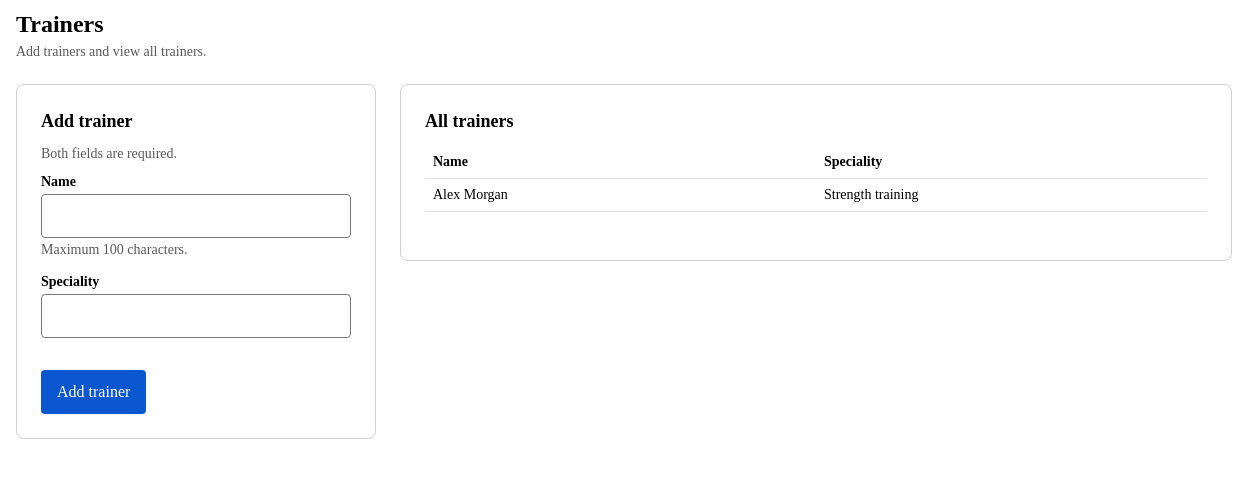
Test case: Trainers page (FIT-941 T2) › Trainers / Save Error (AC-014, AC-015, AC-016) › AC-014: keeps values and list, shows the save error and "Try again"
The image size is (1249, 488).
In the field labelled "Name": (196, 216) [41,194,351,238], type "Sofia García"
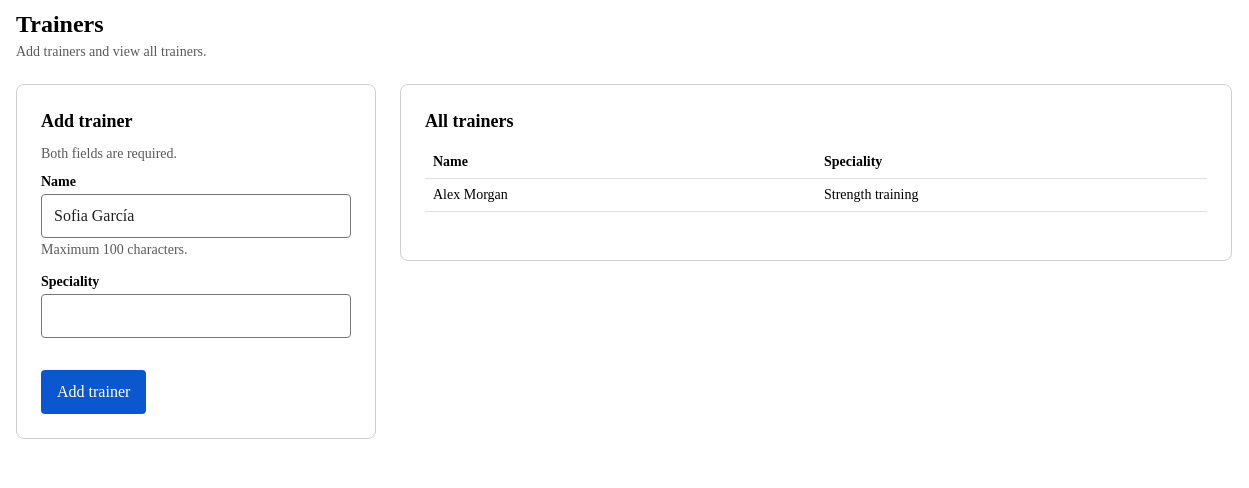
In the field labelled "Speciality": (196, 316) [41,294,351,338], type "Pilates"
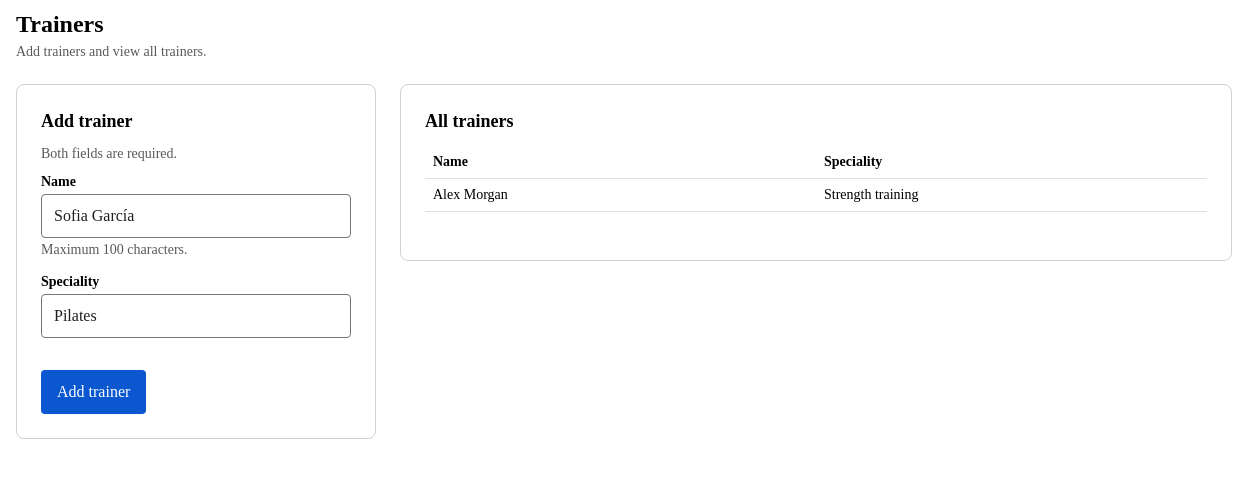
Click the submit button: (94, 392) [41,370,146,414]
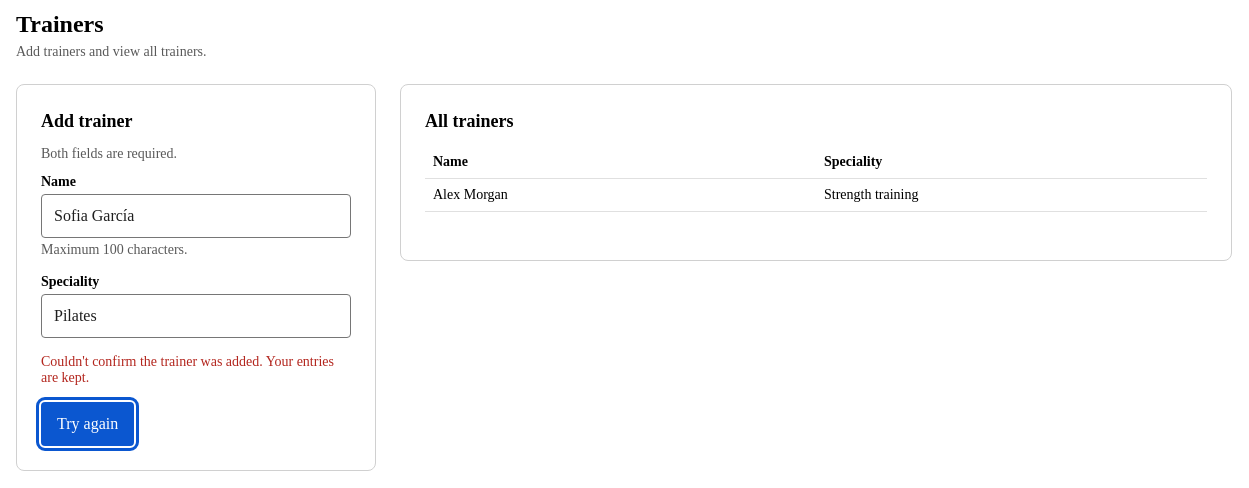
Expected: the submit button is enabled, [41,402,134,446]
Expected: the text "Couldn't confirm the trainer was added. Your entries are kept." is shown, [41,354,351,386]
Expected: the submit button reads "Try again", [41,402,134,446]
